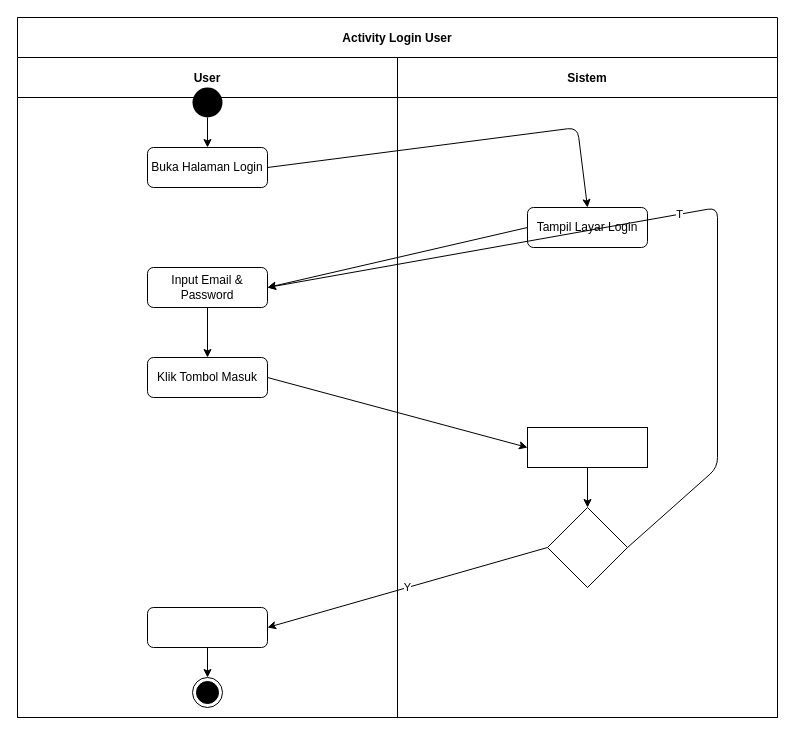
Some shapes in this 795 by 735 pixel diagram are drawn without their labels. Here are the shapes that lost their labels. From the top down, the centre of each, then its label:
[587,447]: Panggil Supabase Auth SignIn
[587,547]: Berhasil?
[207,627]: Masuk ke Home
